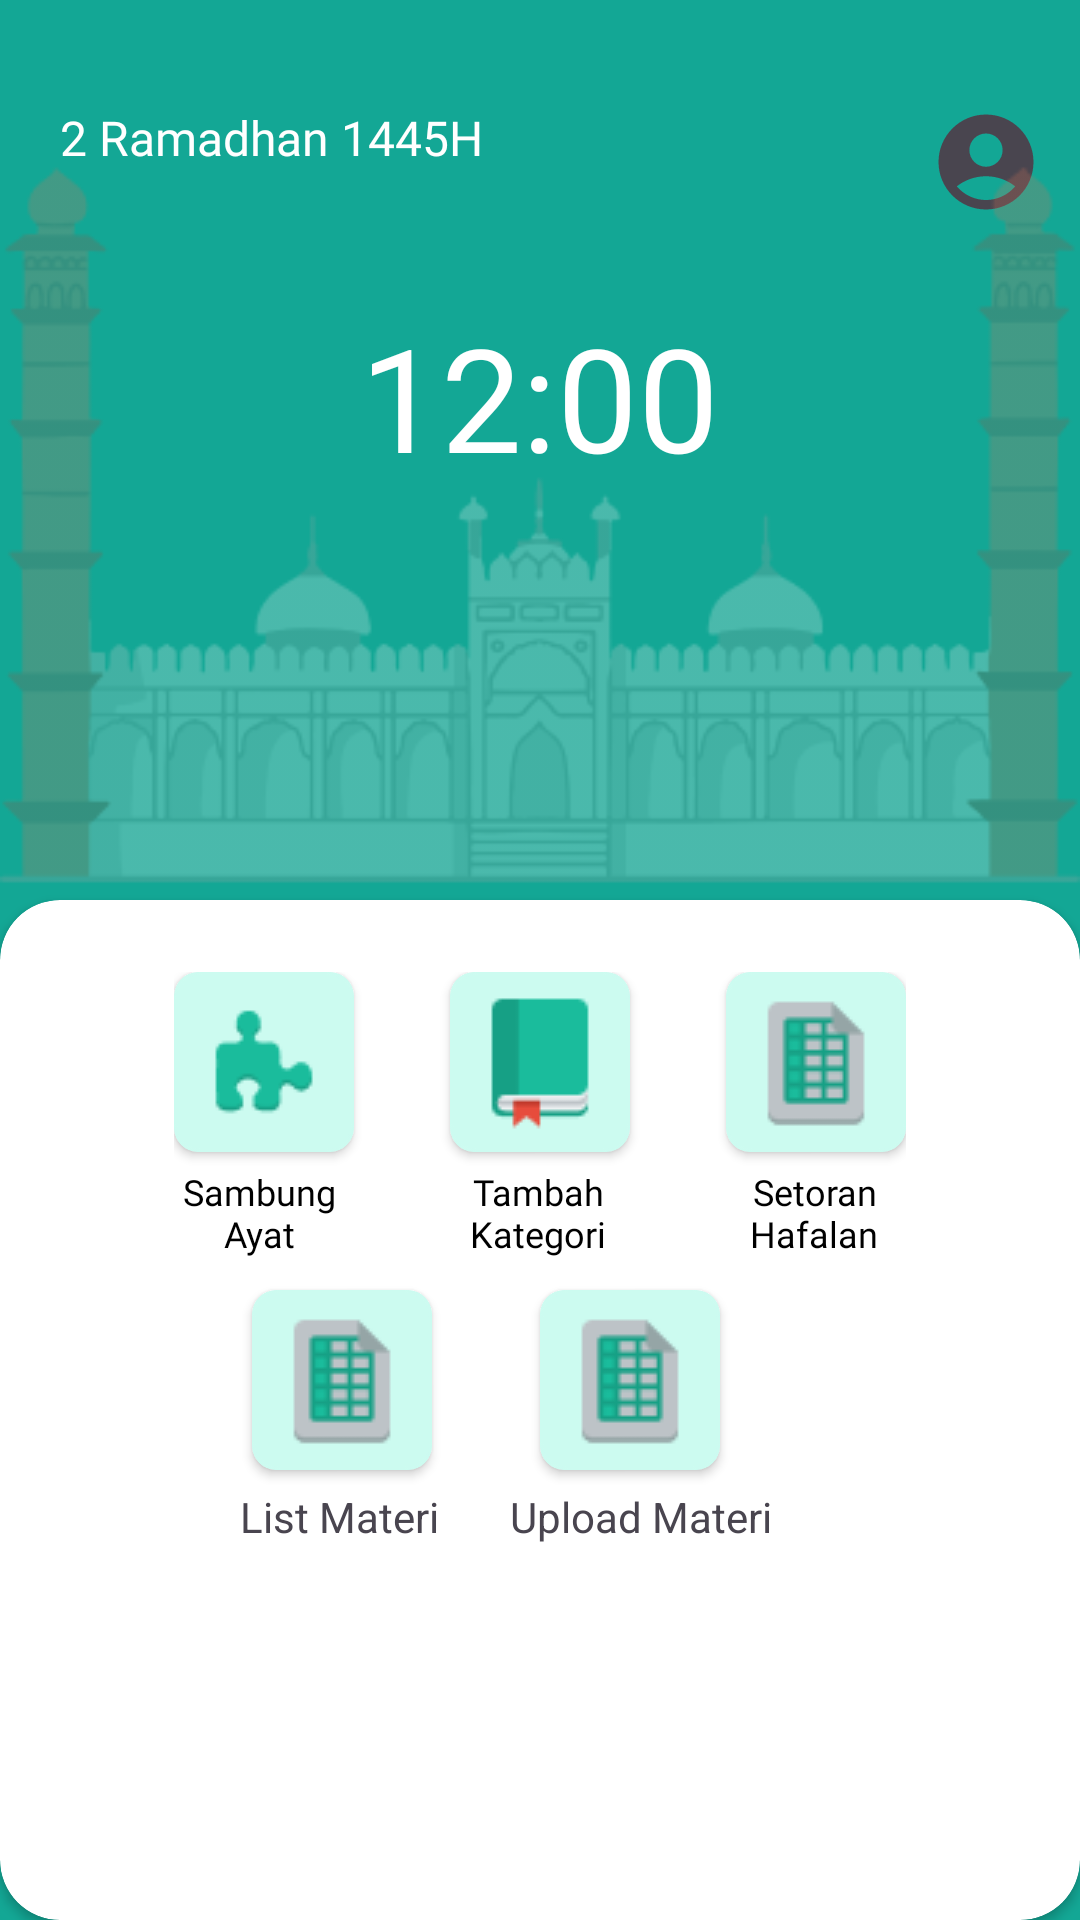

Locate icon controls on the screen. Image size 1080×1920, boxes as [x1=x1, y1=y1, x2=x2, y2=y2].
account circle: [x1=938, y1=114, x2=1043, y2=219]
